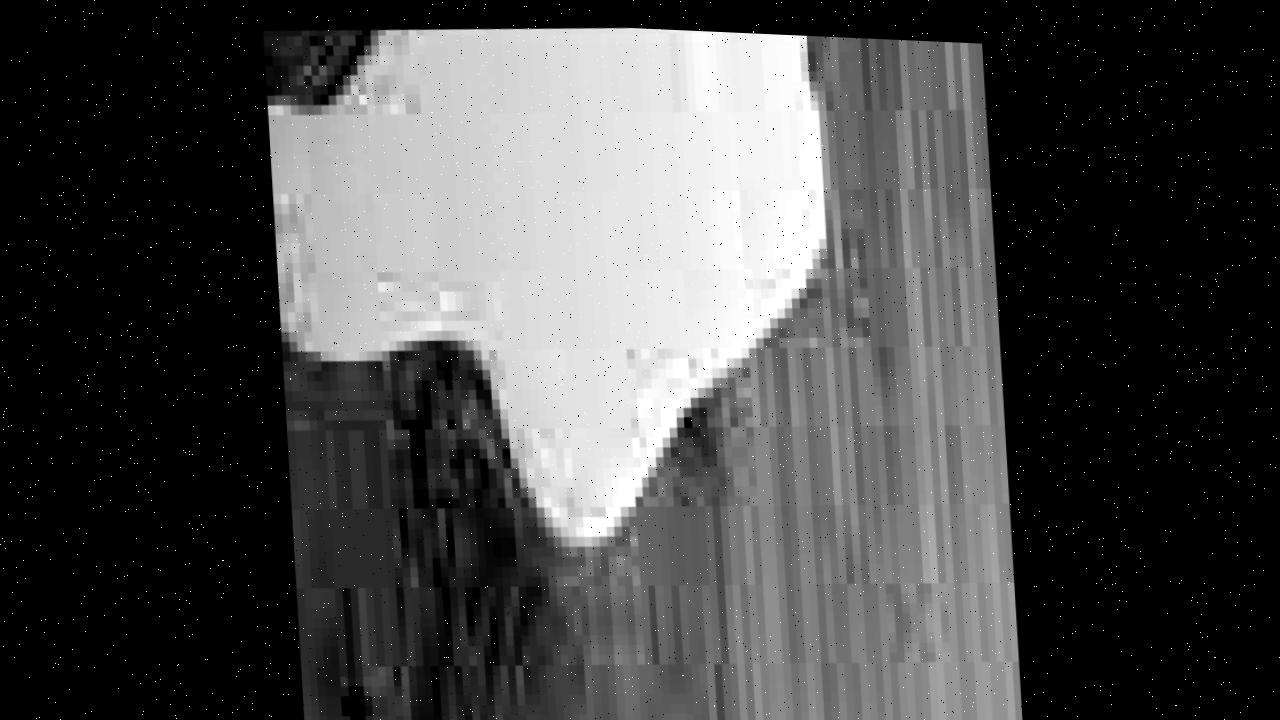drinks Stains: (261, 9, 685, 720)
